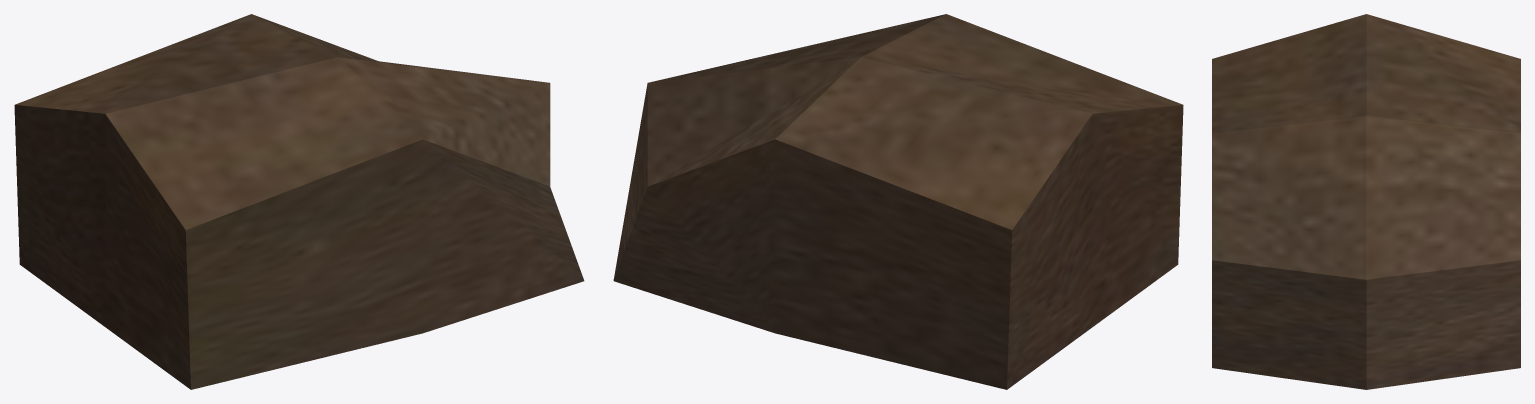
The model's file is boot.obj.
3 renders of one model, left to right at view 1: azimuth 30°, elevation 25°; view 2: azimuth 150°, elevation 25°; view 3: azimuth 270°, elevation 25°, orthographic. The views are drawn at different scales.
Visible parts, largest first — view 1: Cube; view 2: Cube; view 3: Cube.
Part boxes in pixels (<box>): Cube: <box>14,14,584,389</box>; Cube: <box>613,14,1183,389</box>; Cube: <box>1212,14,1520,389</box>.
Bounding box in the file's own units: 2.43 × 1.1 × 1.6.
